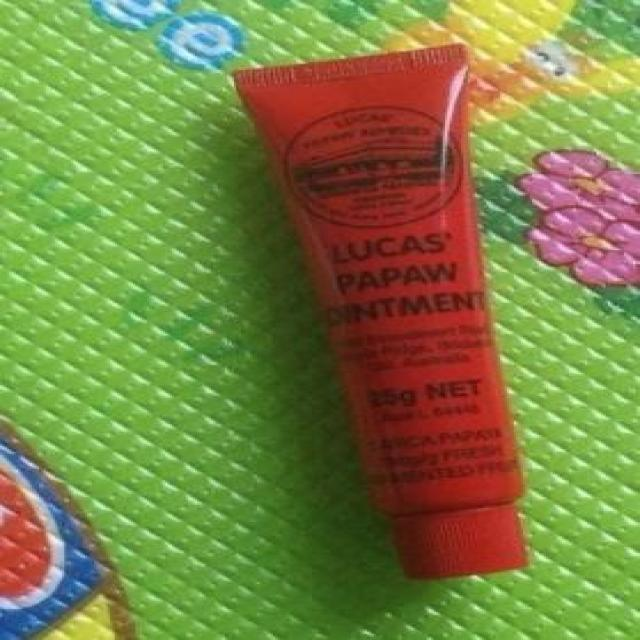-Hazardous waste - medicine inner packaging-: (225, 41, 530, 576)
